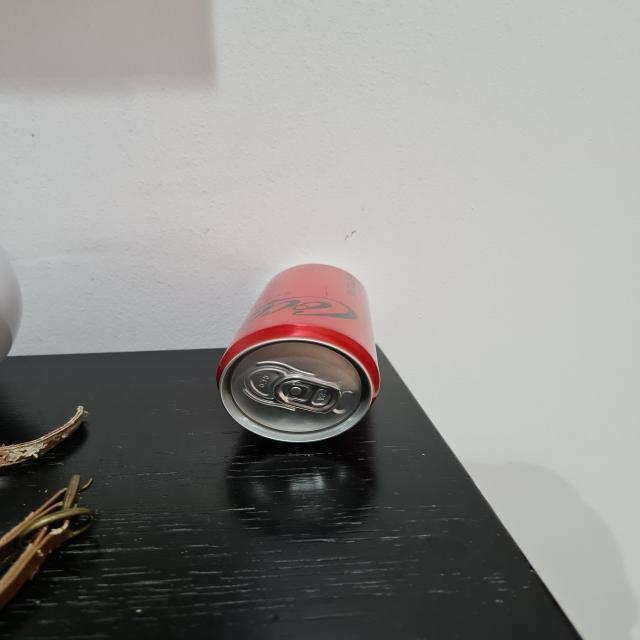can: (210, 262, 388, 439)
